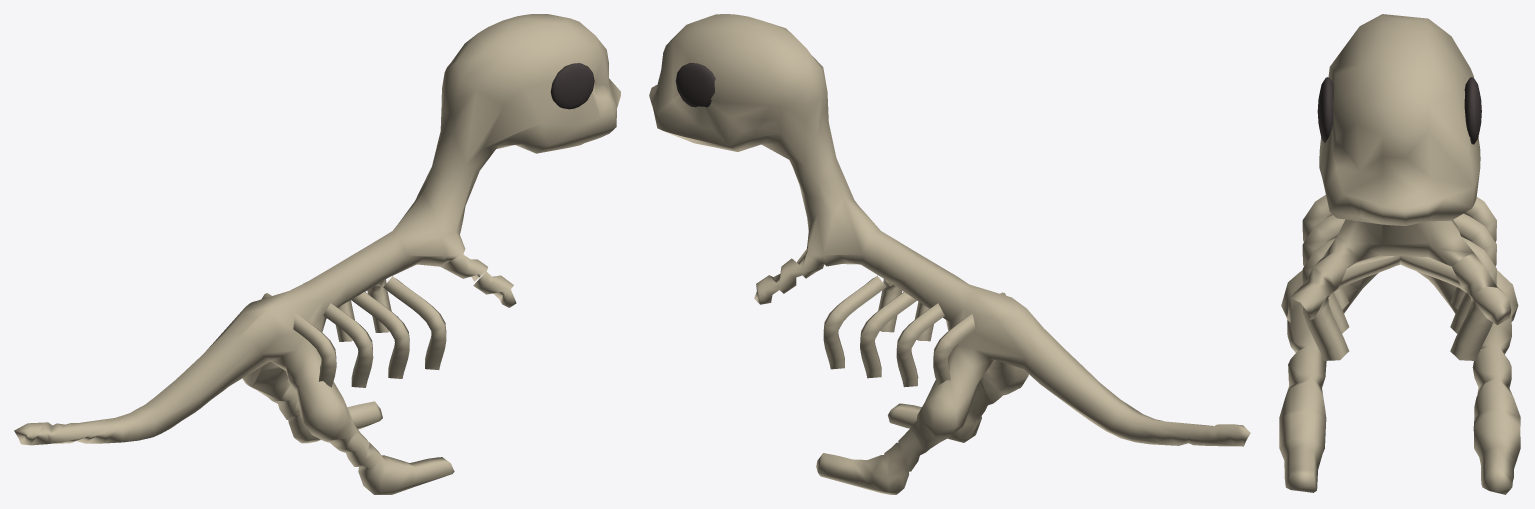
The model's file is dinosaur-fossil.glb.
The picture shows the model from 3 angles, left to right: view 1: azimuth 30°, elevation 25°; view 2: azimuth 150°, elevation 25°; view 3: azimuth 270°, elevation 25°; orthographic projection. The views are drawn at different scales.
Visible parts, largest first — view 1: clay-toy; view 2: clay-toy; view 3: clay-toy.
Part boxes in pixels (box(x1,y1,x2,y2)): clay-toy: box(14, 14, 620, 494); clay-toy: box(649, 14, 1250, 494); clay-toy: box(1279, 14, 1520, 494).
Bounding box in the file's own units: 3.28 × 2.11 × 0.8417.
